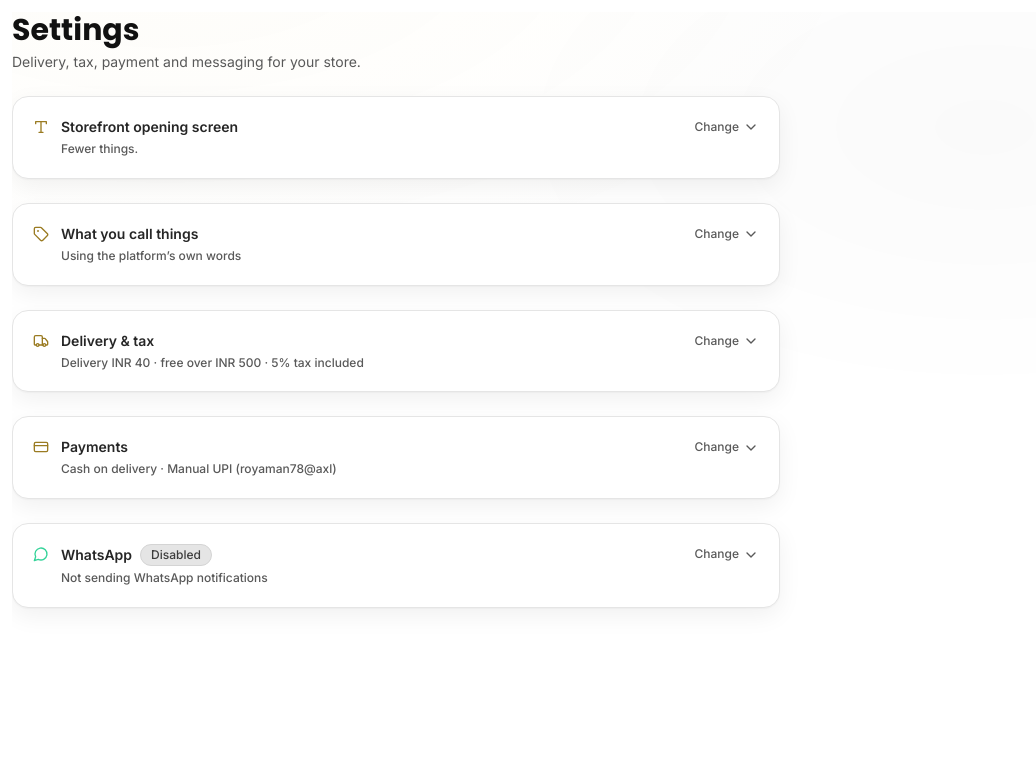
Scenario: AdminSettings — folded sections › marks a section it folded with edits still in it
Expected: the text "Delivery & tax" is shown, 61,331 -> 154,351
Click the button "Delivery & tax" at (108, 340), box 33,331 -> 759,371
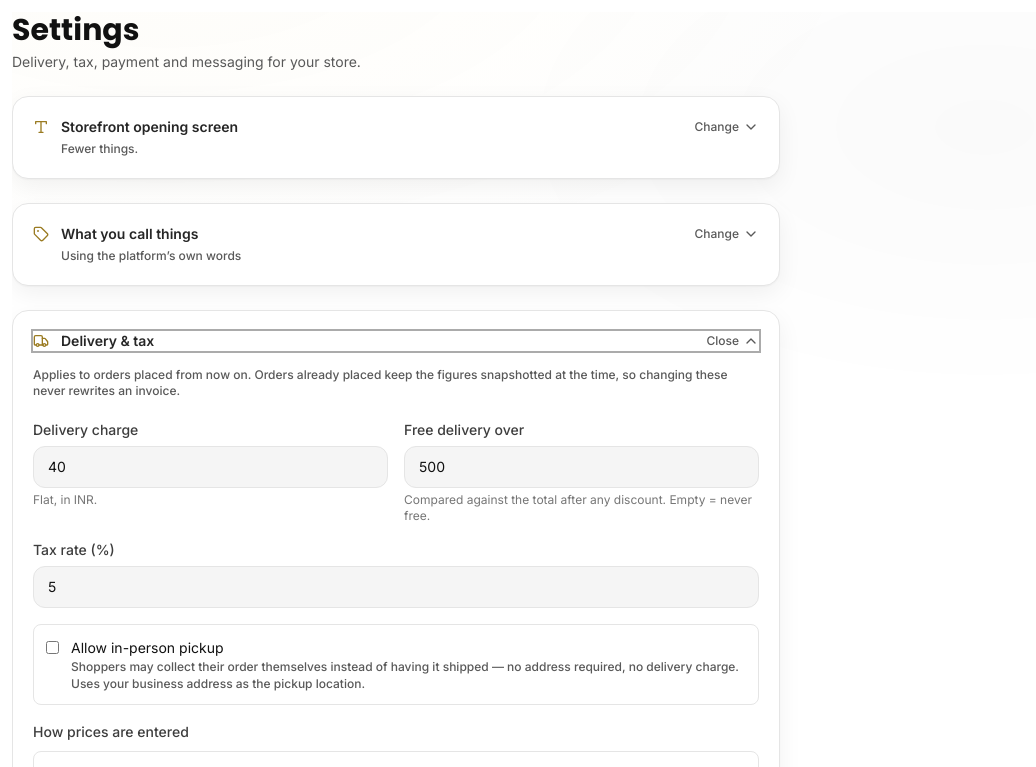
Replace the text in the number field named "Tax rate" with "12" at (396, 587), box 33,566 -> 759,608
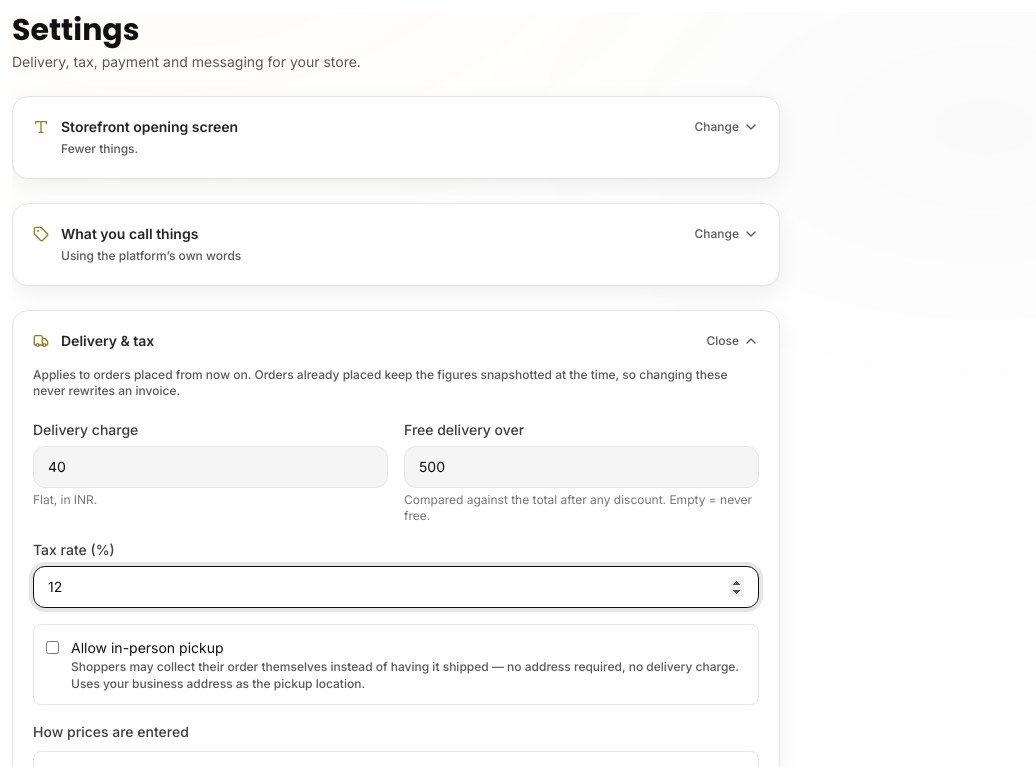
Click the button "What you call things Using the platform’s own words Change" at (130, 233), box 33,224 -> 759,265
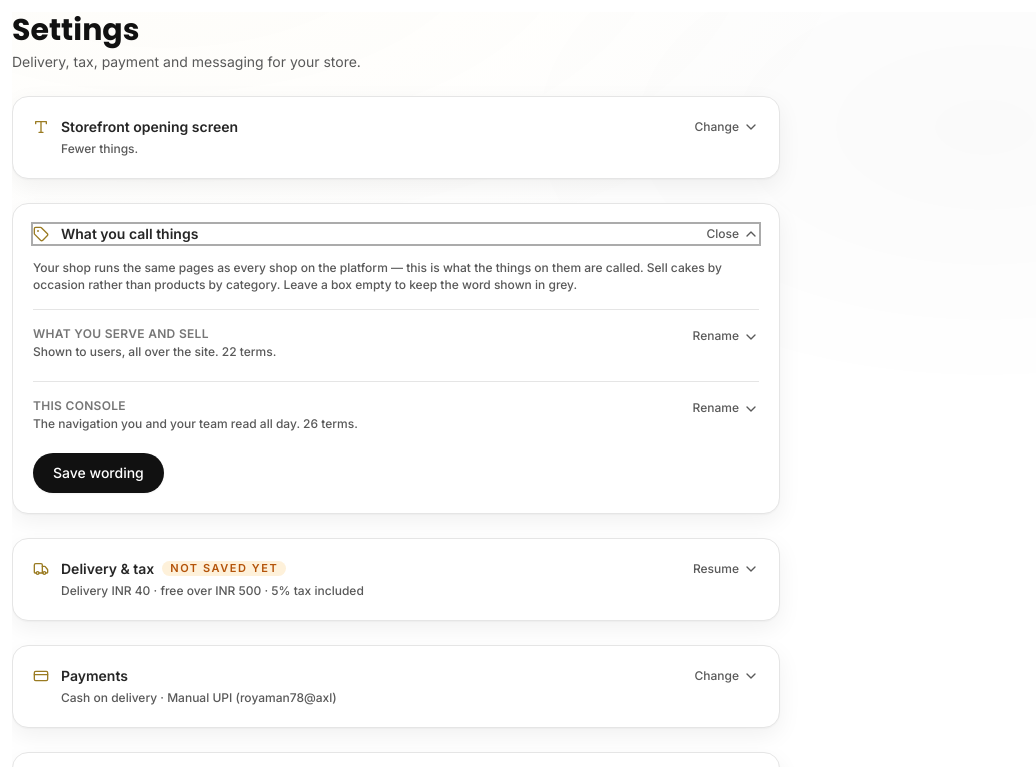
Expected: the button "Delivery & tax" shows "Not saved yet", 33,559 -> 759,600
Expected: the button "Delivery & tax" shows "Resume", 33,559 -> 759,600
